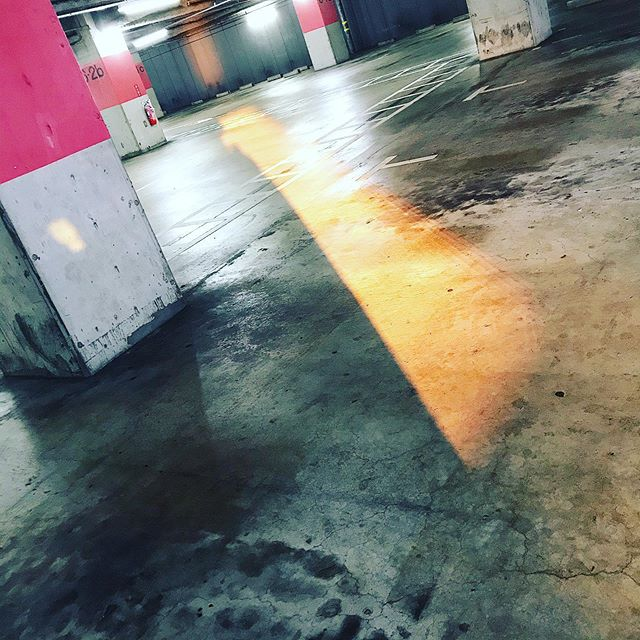collumn: (1, 1, 185, 386), (57, 18, 170, 150), (287, 1, 359, 74)
